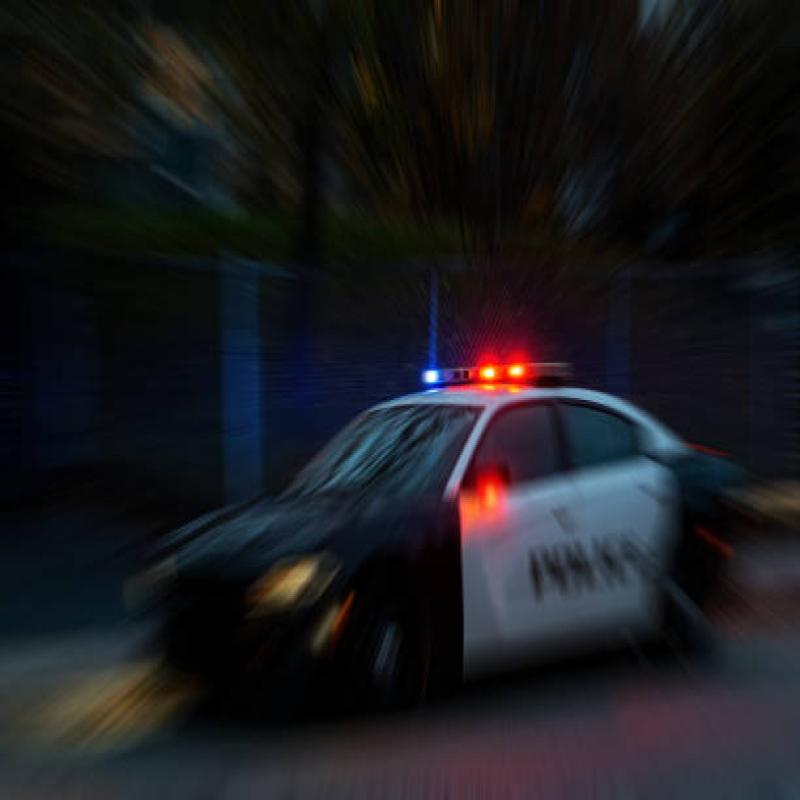AmbulanceSiren: (404, 342, 570, 390)
